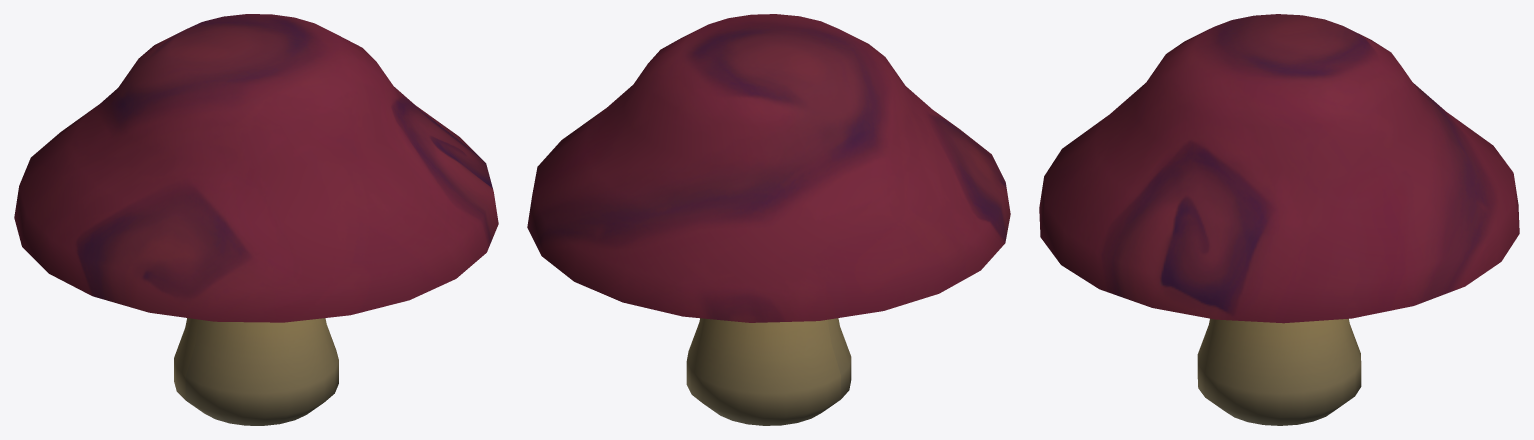
The model's file is Padestoel.FBX.
3 views of the same model, side by side, from view 1: azimuth 30°, elevation 25°; view 2: azimuth 150°, elevation 25°; view 3: azimuth 270°, elevation 25° (orthographic).
Parts seen in each view (by area): view 1: Sphere005; view 2: Sphere005; view 3: Sphere005.
Boxes of the visible parts, x1,y1,x2,y2 form: Sphere005: [14, 14, 498, 425]; Sphere005: [527, 14, 1010, 425]; Sphere005: [1039, 14, 1519, 425].
Size of the model in its own units: 22.89 by 18.54 by 22.71.
Materials: 1 (1 with a texture image).
